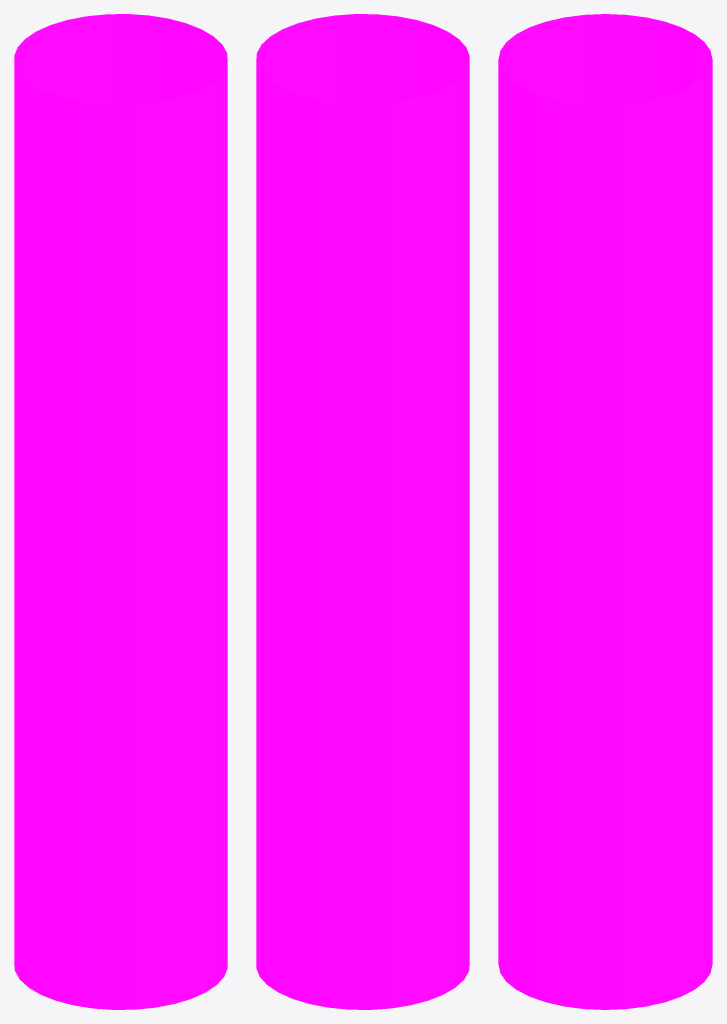
Rendered from mid.glb.
3 views of the same model, side by side, from view 1: azimuth 30°, elevation 25°; view 2: azimuth 150°, elevation 25°; view 3: azimuth 270°, elevation 25° (orthographic).
Visible parts, largest first — view 1: Object.033; view 2: Object.033; view 3: Object.033.
Part boxes in pixels (x1,y1,x2,y2): Object.033: (14, 14, 227, 1009); Object.033: (256, 14, 469, 1009); Object.033: (498, 14, 712, 1009).
Size of the model in its own units: 10.95 by 51.12 by 10.95.
